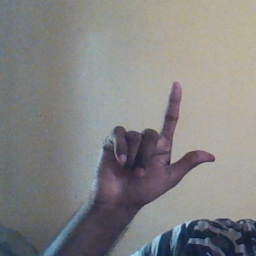L: (94, 78, 221, 201)
